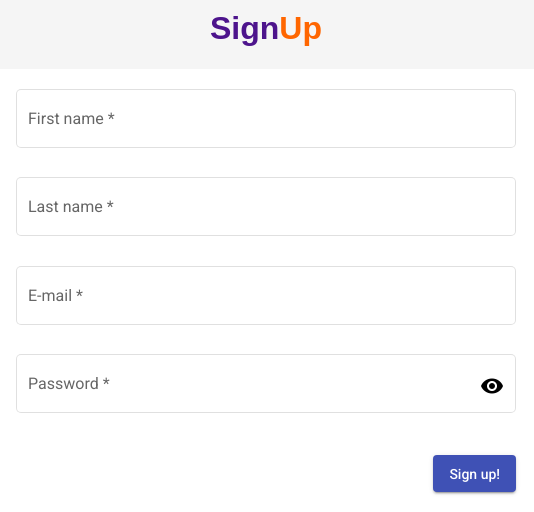
Test: Fe-Sign-Up-App E2E Tests › should show both errors when password does not meet patter requirements and also compromised
Type "A" into the field with test id "firstName". click: [266, 123]
box: [28,114,504,132]
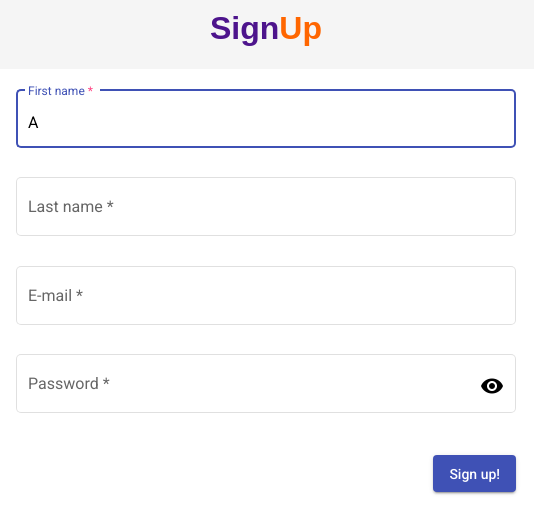
Type "a" into the password field with test id "password". click: [254, 388]
box: [28,379,480,397]
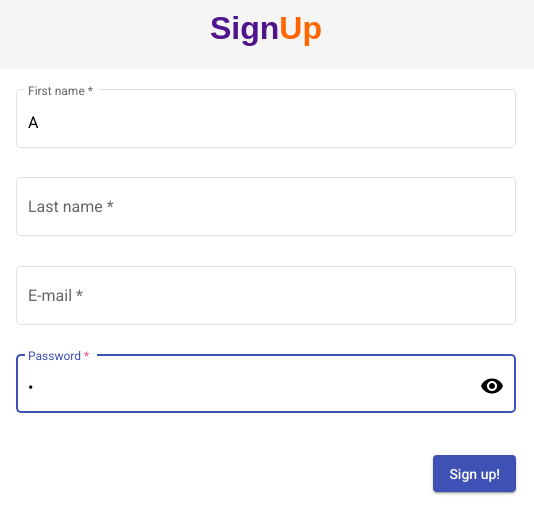
Click the button with test id "submit". click: [475, 474]
box: [433,455,516,492]
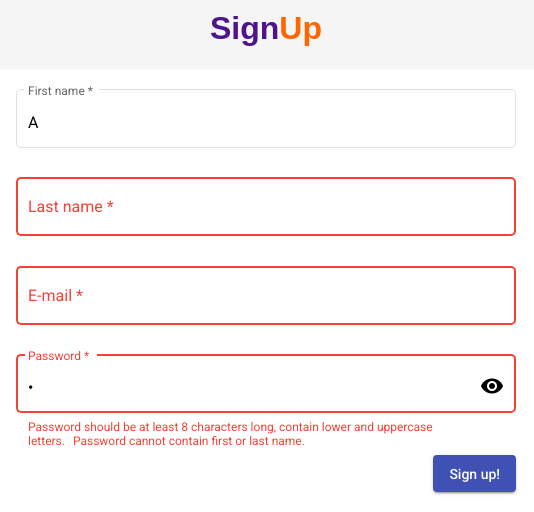
expect the number of elements with test id "errorMessage" is 1: met, box [28,421,504,448]
